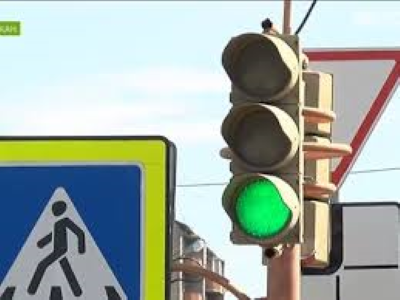crosswalk: (1, 162, 143, 300), (3, 162, 145, 300)
trafficlight_green: (223, 34, 294, 239)
